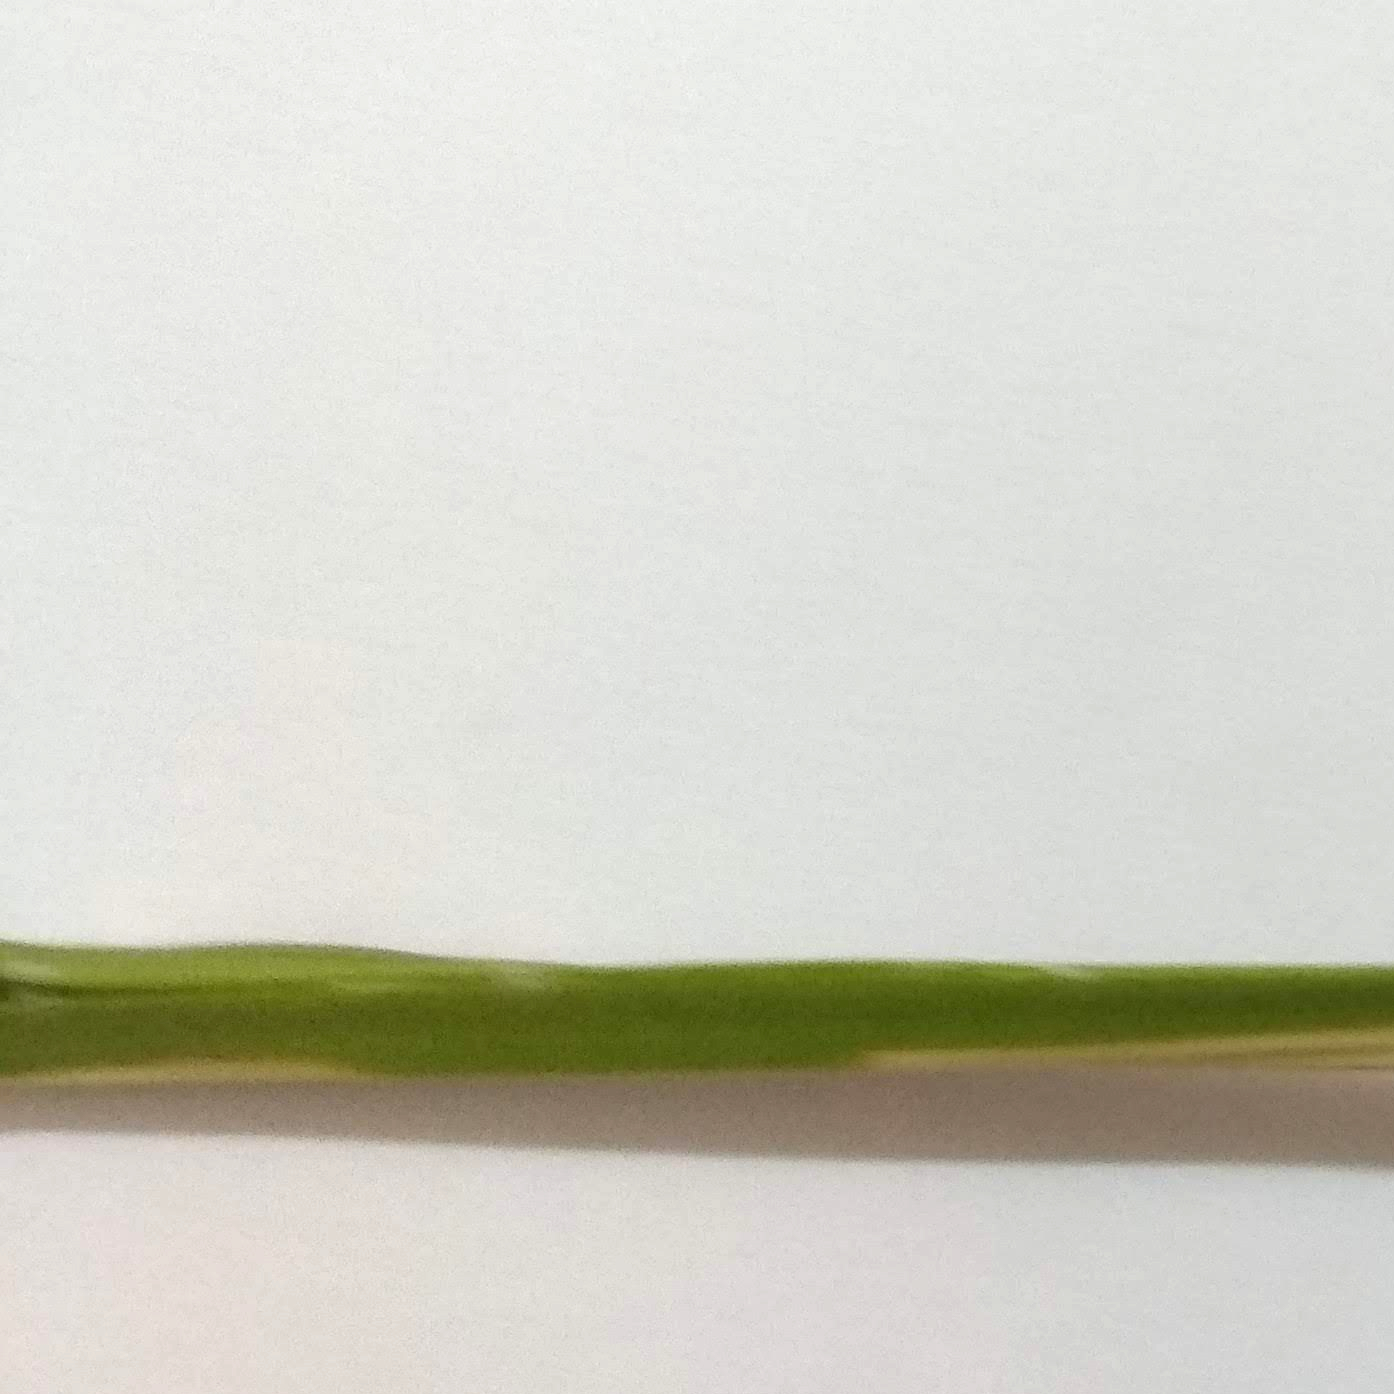hispa: (4, 894, 1394, 1094)
